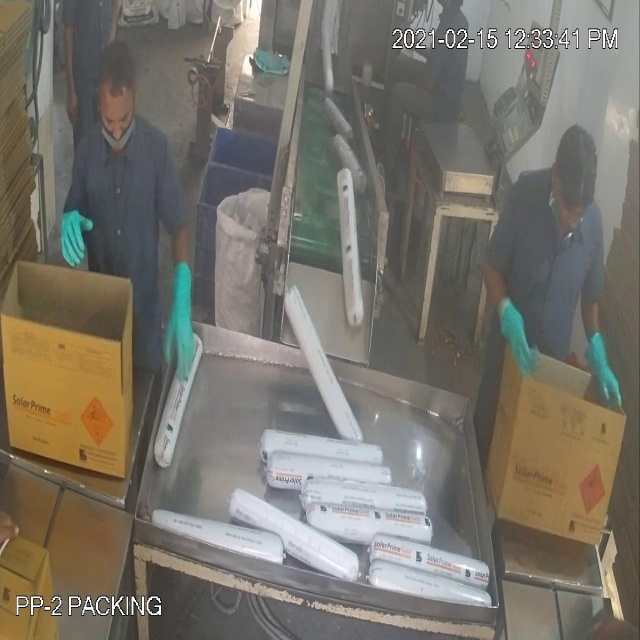Guantes: (148, 223, 210, 409), (488, 282, 543, 388), (581, 312, 626, 417), (53, 193, 98, 271)
